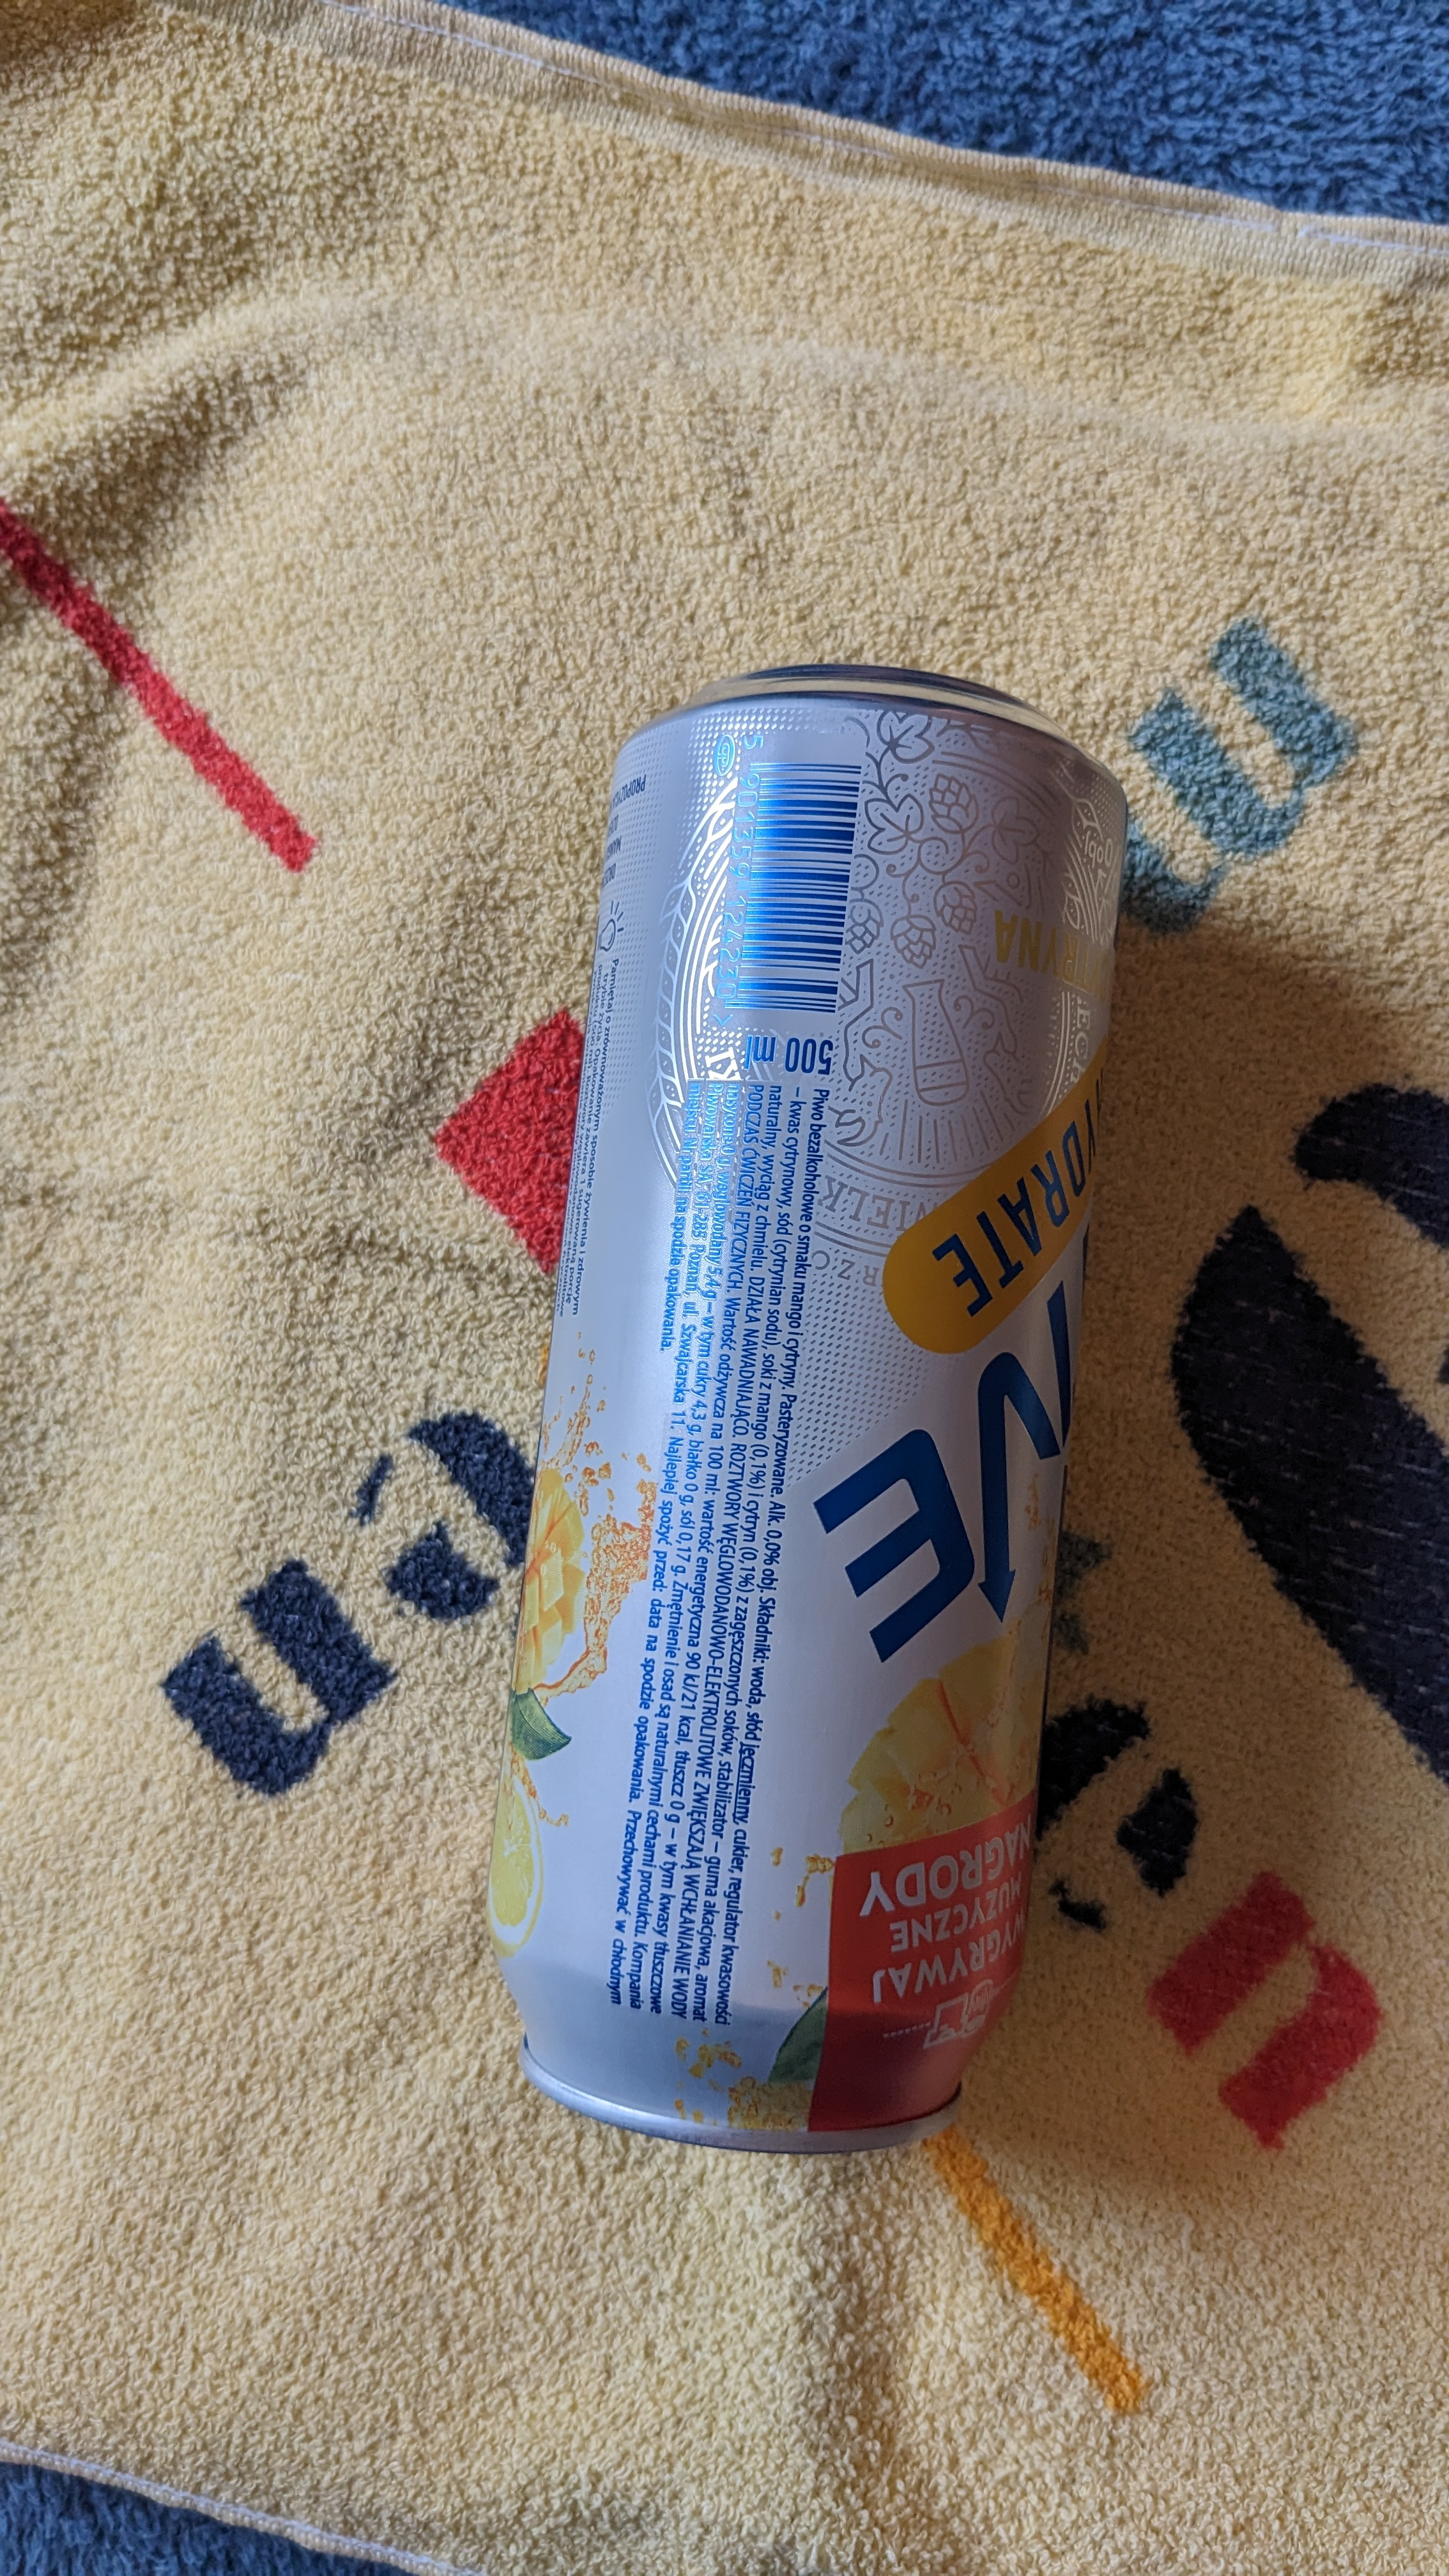lech-active: (543, 669, 1113, 2181)
